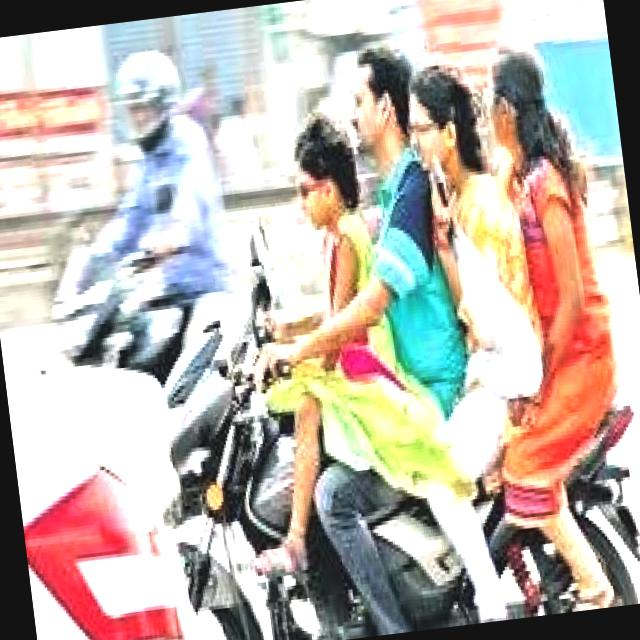motorcycle: (122, 261, 640, 640)
person: (451, 26, 637, 545), (382, 51, 565, 566), (313, 32, 490, 556), (255, 104, 401, 480)
rider_region: (99, 21, 640, 640)
